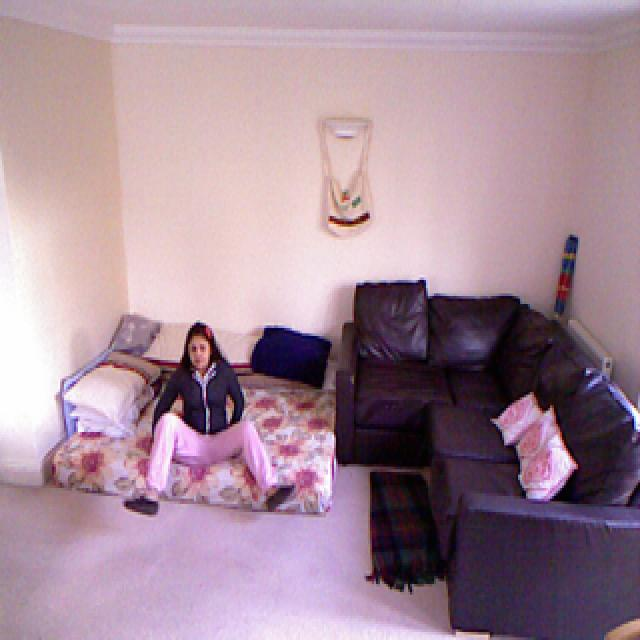sitting: (128, 323, 297, 525)
